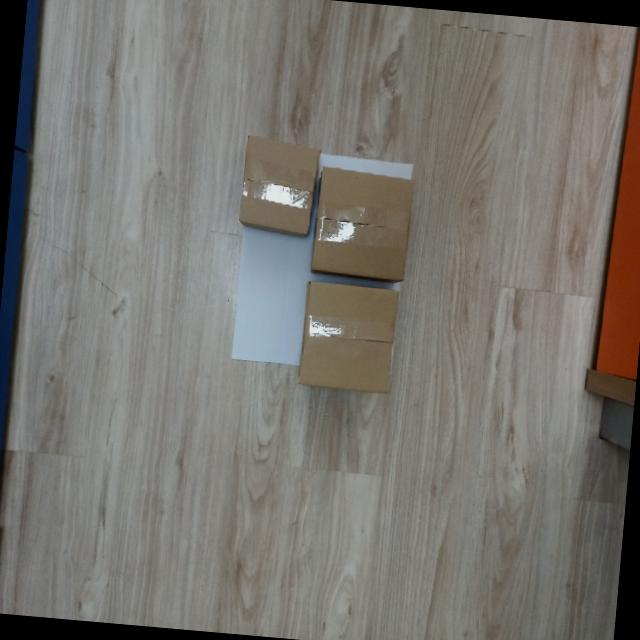box: (304, 163, 420, 284), (292, 276, 404, 399), (234, 132, 322, 239)
